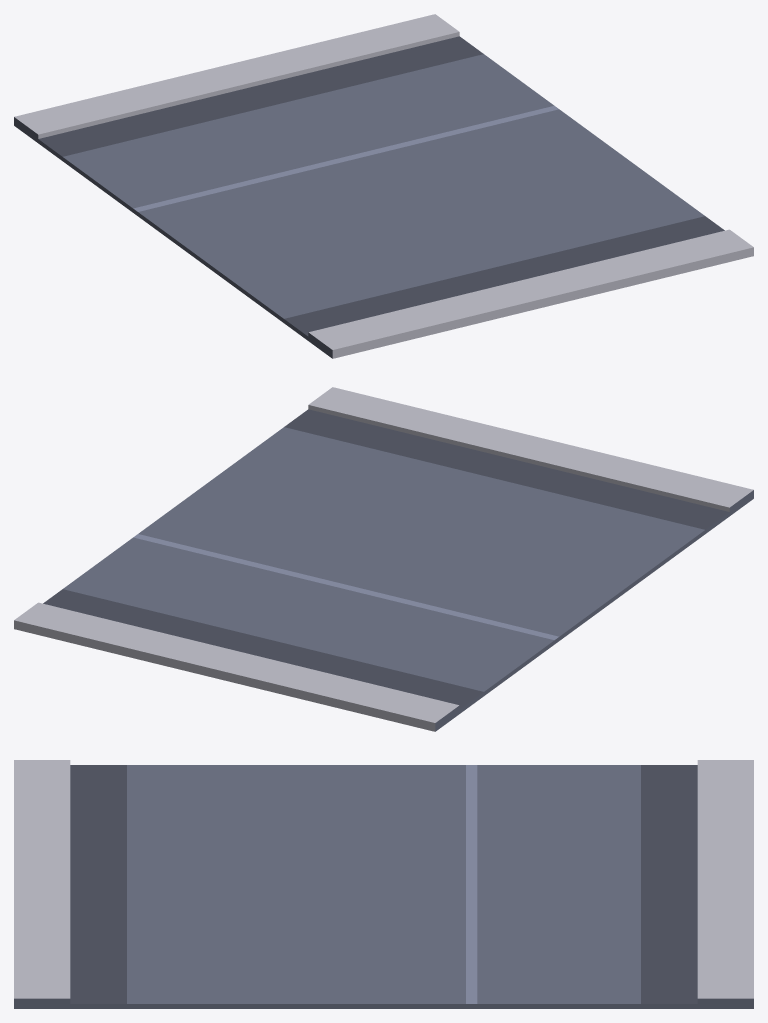
The model's file is Road Side.glb.
3 views of the same model, one above another, from view 1: azimuth 30°, elevation 25°; view 2: azimuth 150°, elevation 25°; view 3: azimuth 270°, elevation 25° (orthographic). The views are drawn at different scales.
Parts seen in each view (by area): view 1: road_side; view 2: road_side; view 3: road_side.
Boxes of the visible parts, x1=… form: road_side: x1=14, y1=14, x2=753, y2=358; road_side: x1=14, y1=387, x2=753, y2=731; road_side: x1=14, y1=760, x2=753, y2=1008.
Size of the model in its own units: 1 by 0.02 by 1.31.
